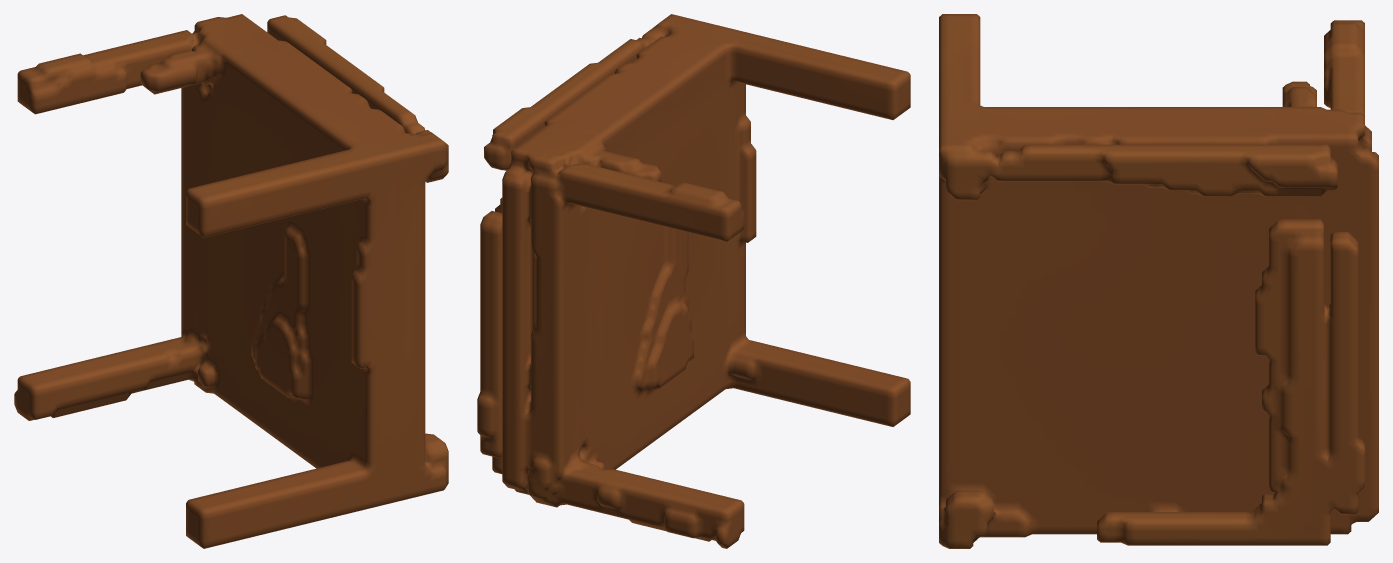
Rendered from This is table made up wood with square  shape. It .glb.
3 views of the same model, side by side, from view 1: azimuth 30°, elevation 25°; view 2: azimuth 150°, elevation 25°; view 3: azimuth 270°, elevation 25° (orthographic). The views are drawn at different scales.
Visible parts, largest first — view 1: This is table made up wood with square shape. It; view 2: This is table made up wood with square shape. It; view 3: This is table made up wood with square shape. It.
Part boxes in pixels (x1,y1,x2,y2): This is table made up wood with square shape. It: (14,14,448,548); This is table made up wood with square shape. It: (477,14,910,548); This is table made up wood with square shape. It: (939,14,1378,548).
Size of the model in its own units: 50 by 64 by 64.
